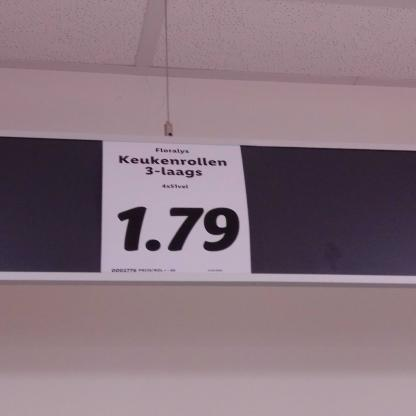prtg: (101, 142, 253, 275)
